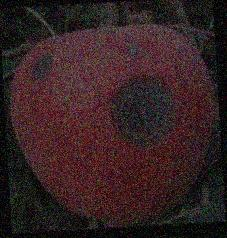rotten apple: (9, 24, 218, 224)
